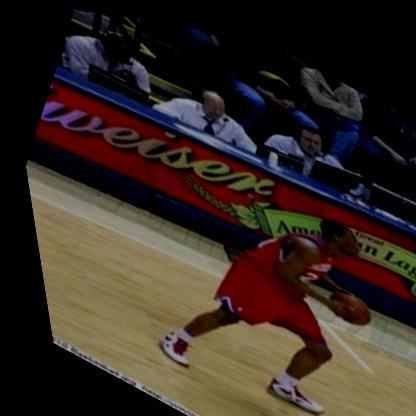basketball: (307, 269, 376, 331)
